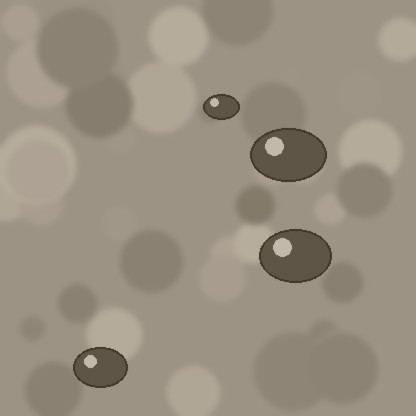gota: (250, 130, 326, 186), (259, 231, 331, 287), (73, 349, 127, 391), (203, 95, 239, 121)
